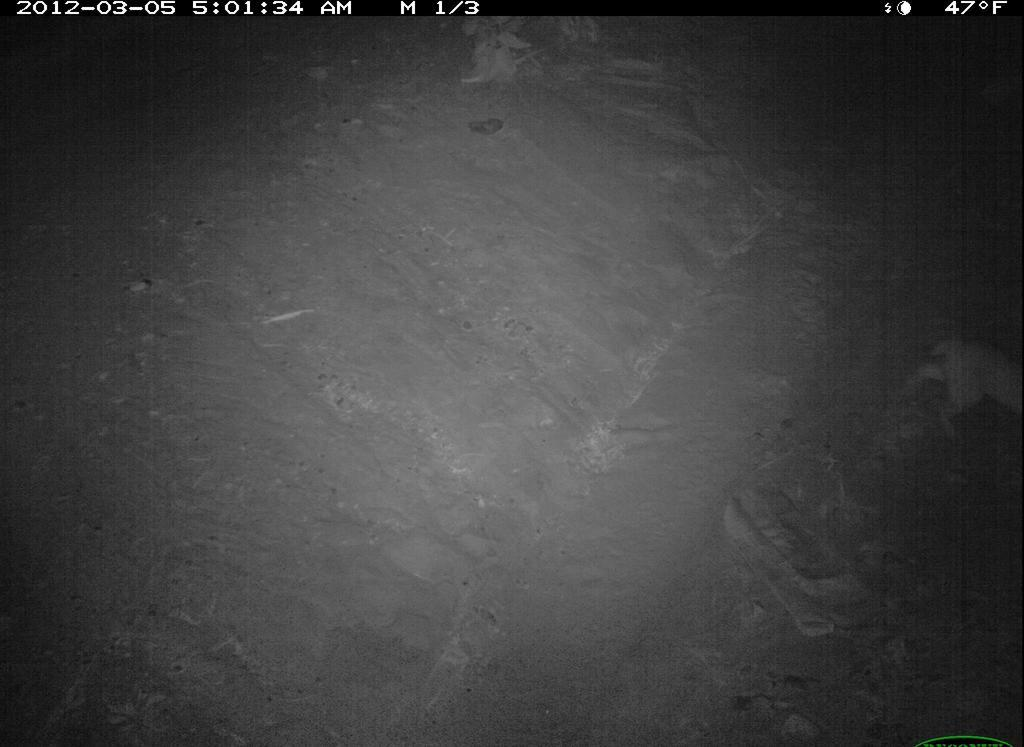bobcat: (900, 323, 1023, 457)
